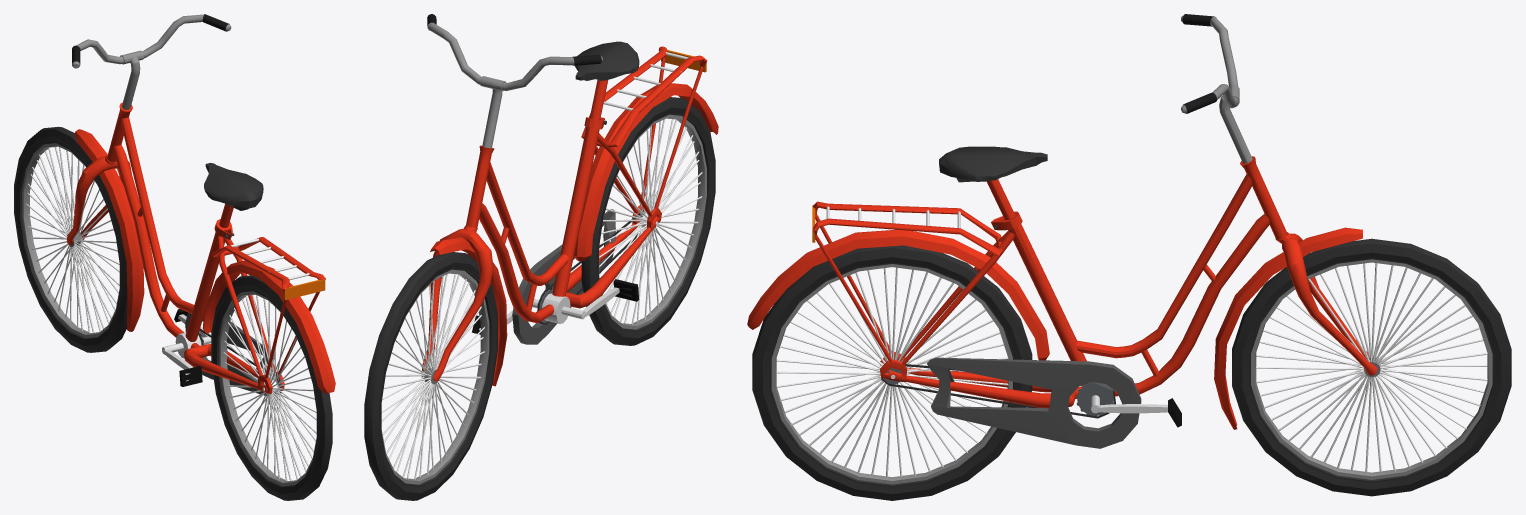
Rendered from bicycle.glb.
The picture shows the model from 3 angles, left to right: view 1: azimuth 30°, elevation 25°; view 2: azimuth 150°, elevation 25°; view 3: azimuth 270°, elevation 25°; orthographic projection. The views are drawn at different scales.
Visible parts, largest first — view 1: Runko, Renkaat, pINNAT, Lokarit, penkki, rapasuoja, Cylinder.013; view 2: Runko, Renkaat, pINNAT, Lokarit, rapasuoja, penkki, Cylinder.013, KETJUT; view 3: Renkaat, Runko, pINNAT, rapasuoja, Lokarit, penkki.
Part boxes in pixels (bbox=[...]): Runko: bbox=[67, 14, 325, 393]; Renkaat: bbox=[14, 126, 332, 500]; pINNAT: bbox=[26, 147, 316, 481]; Lokarit: bbox=[74, 129, 335, 393]; penkki: bbox=[204, 163, 263, 210]; rapasuoja: bbox=[185, 312, 274, 395]; Cylinder.013: bbox=[217, 236, 262, 375]; Runko: bbox=[421, 14, 707, 381]; Renkaat: bbox=[364, 97, 715, 500]; pINNAT: bbox=[381, 119, 702, 479]; Lokarit: bbox=[430, 83, 718, 386]; rapasuoja: bbox=[512, 209, 615, 344]; penkki: bbox=[575, 41, 639, 80]; Cylinder.013: bbox=[597, 133, 652, 216]; KETJUT: bbox=[537, 210, 643, 324]; Renkaat: bbox=[752, 238, 1511, 500]; Runko: bbox=[812, 14, 1377, 427]; pINNAT: bbox=[776, 263, 1487, 478]; rapasuoja: bbox=[927, 357, 1141, 448]; Lokarit: bbox=[747, 227, 1362, 429]; penkki: bbox=[939, 146, 1047, 182].
Bounding box in the file's own units: 1.33 × 2.94 × 4.57.
2 materials, 1 textured.
